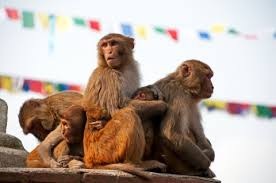monkey: (36, 13, 236, 174)
